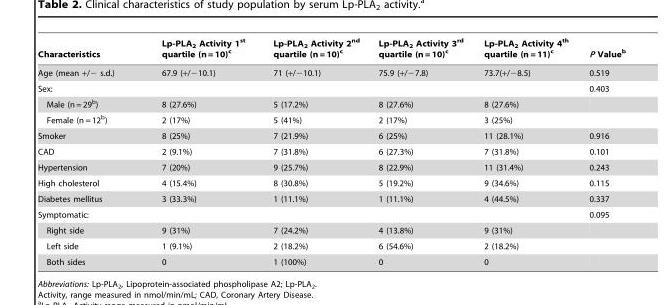table: (37, 37, 624, 266)
table column: (137, 37, 258, 266), (258, 37, 368, 266), (368, 37, 473, 266), (473, 37, 577, 266), (37, 37, 137, 266), (577, 37, 624, 266)
table column header: (37, 37, 624, 62)
table row: (37, 37, 624, 62), (37, 62, 624, 80), (37, 95, 624, 111), (37, 111, 624, 127), (37, 127, 624, 143), (37, 143, 624, 159), (37, 159, 624, 175), (37, 190, 624, 206), (37, 206, 624, 222), (37, 222, 624, 238), (37, 80, 624, 95), (37, 175, 624, 190), (37, 238, 624, 253), (37, 253, 624, 266)
table spanning cell: (37, 206, 577, 222), (37, 80, 577, 95)
